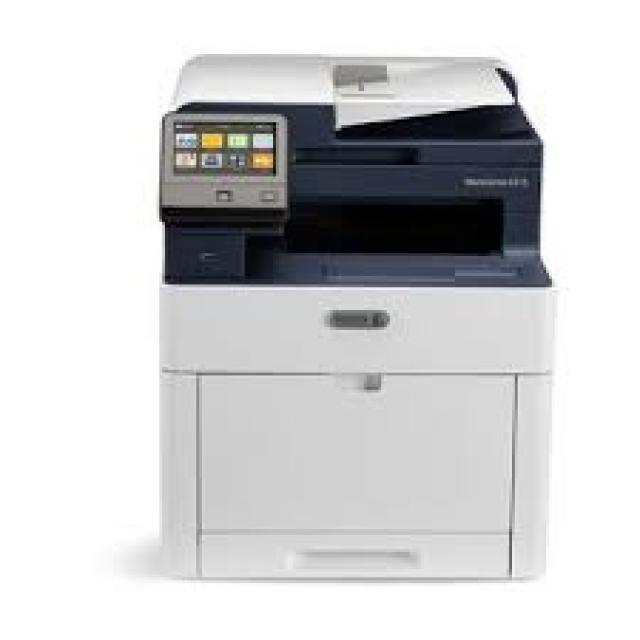printer: (126, 31, 581, 608)
